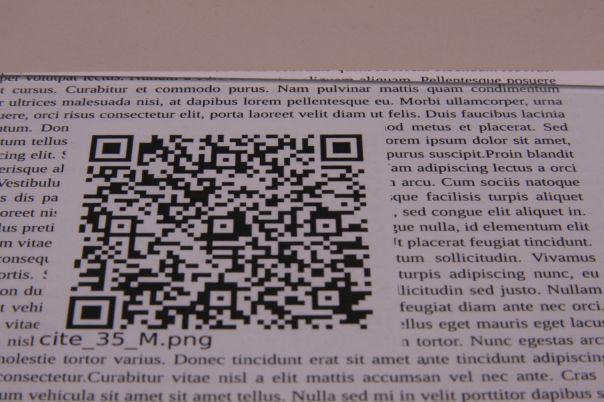code: (66, 133, 373, 332)
